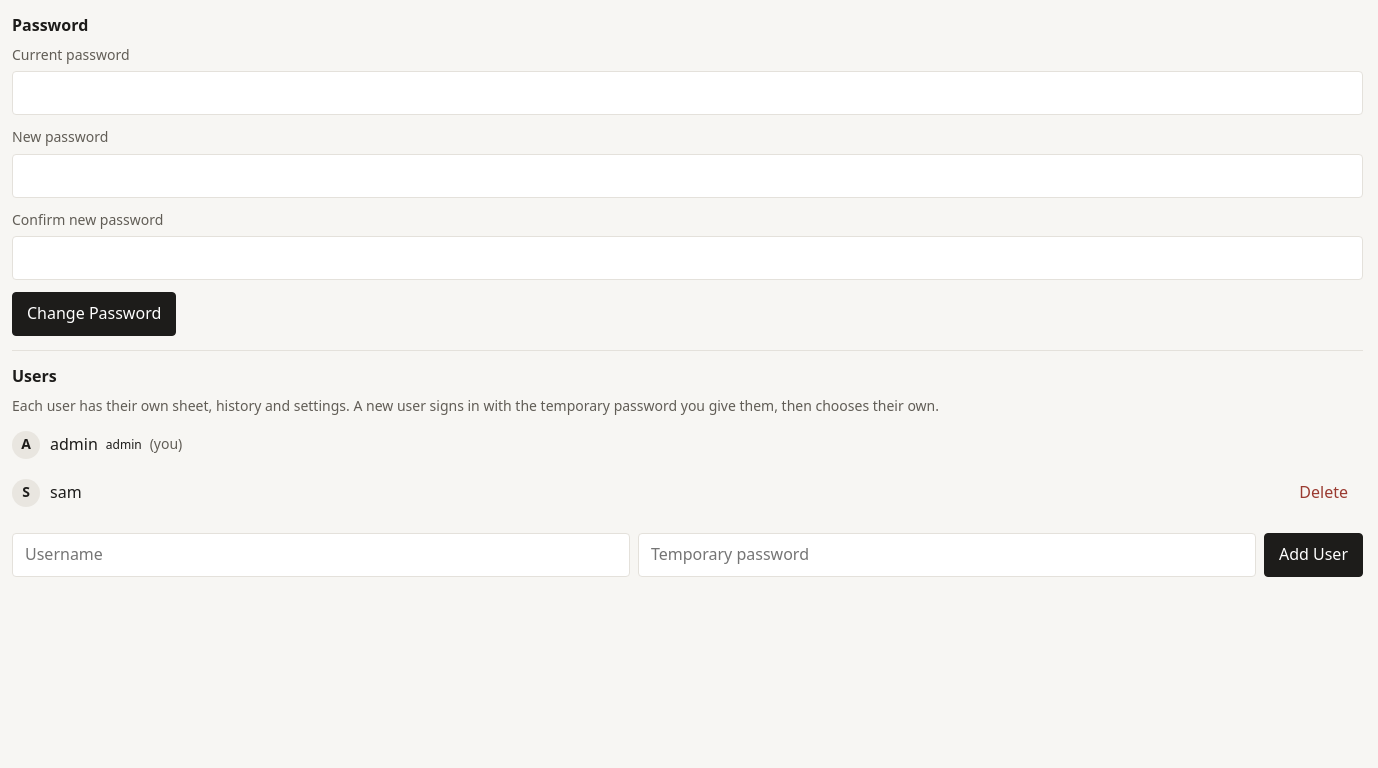
Test: AccountTab › clears the error line when a delete is tried again
This screenshot has width=1378, height=768.
Click the button with aria-label "Delete sam".
click(1324, 493)  # box [1284,471,1363,515]
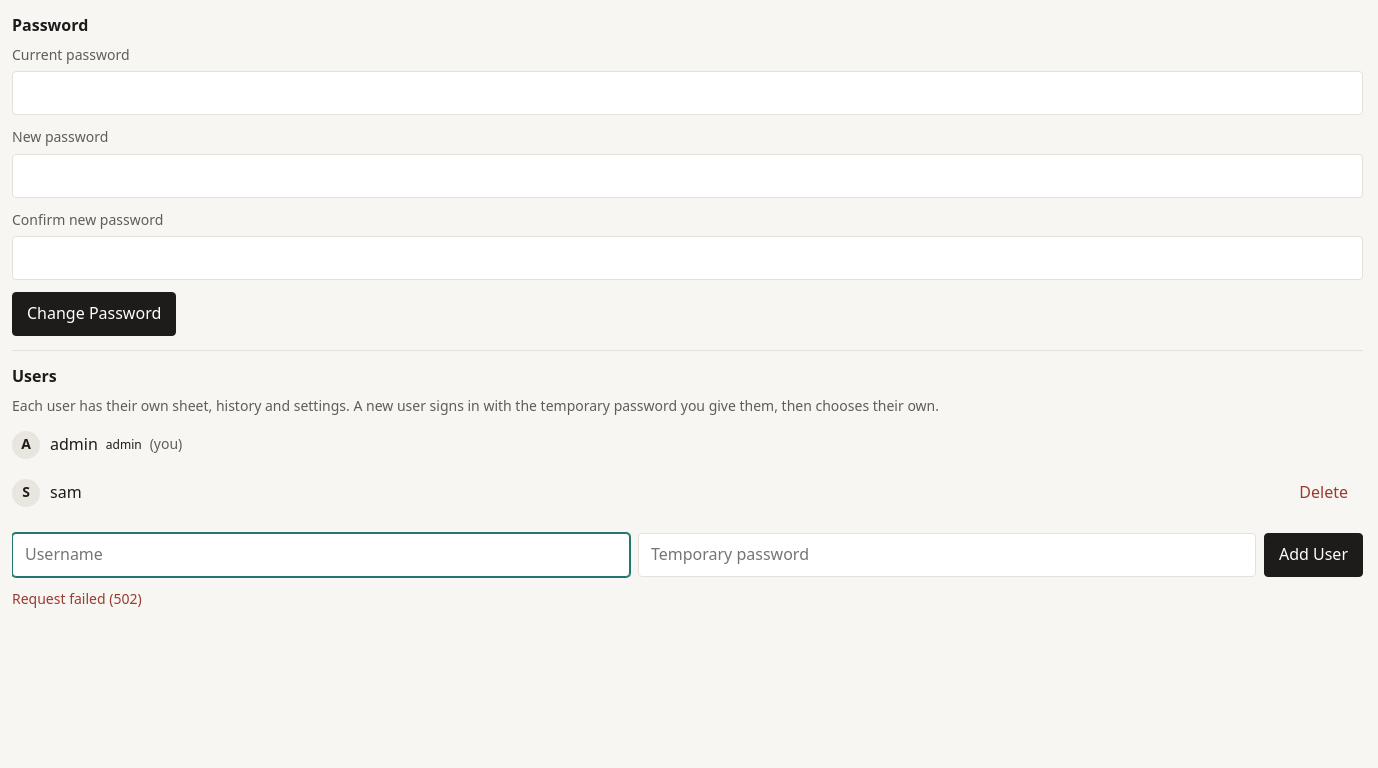
Expected: the message reads "Request failed (502)", [12,589,142,608]
Click the button with aria-label "Delete sam".
click(1324, 493)  # box [1284,471,1363,515]
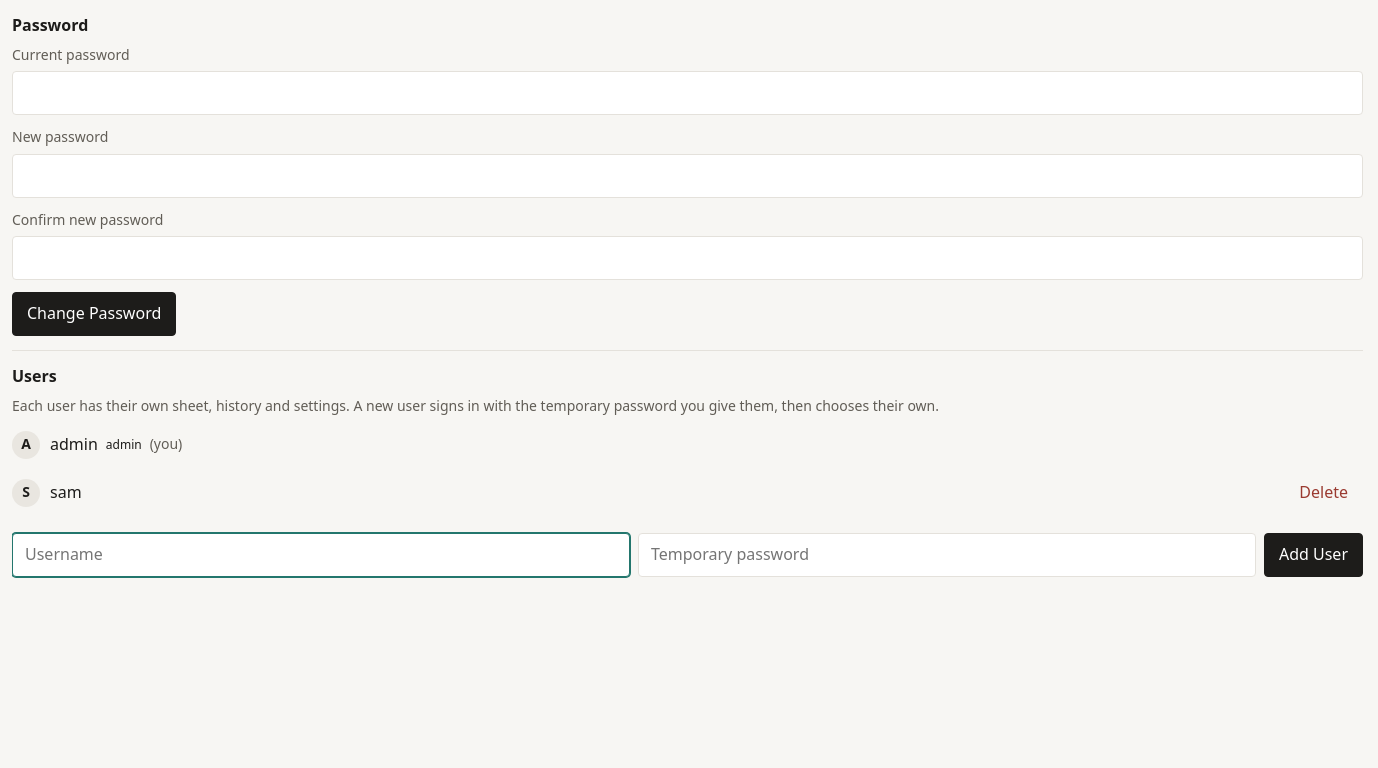
Expected: the message "Request failed (502)" is gone
